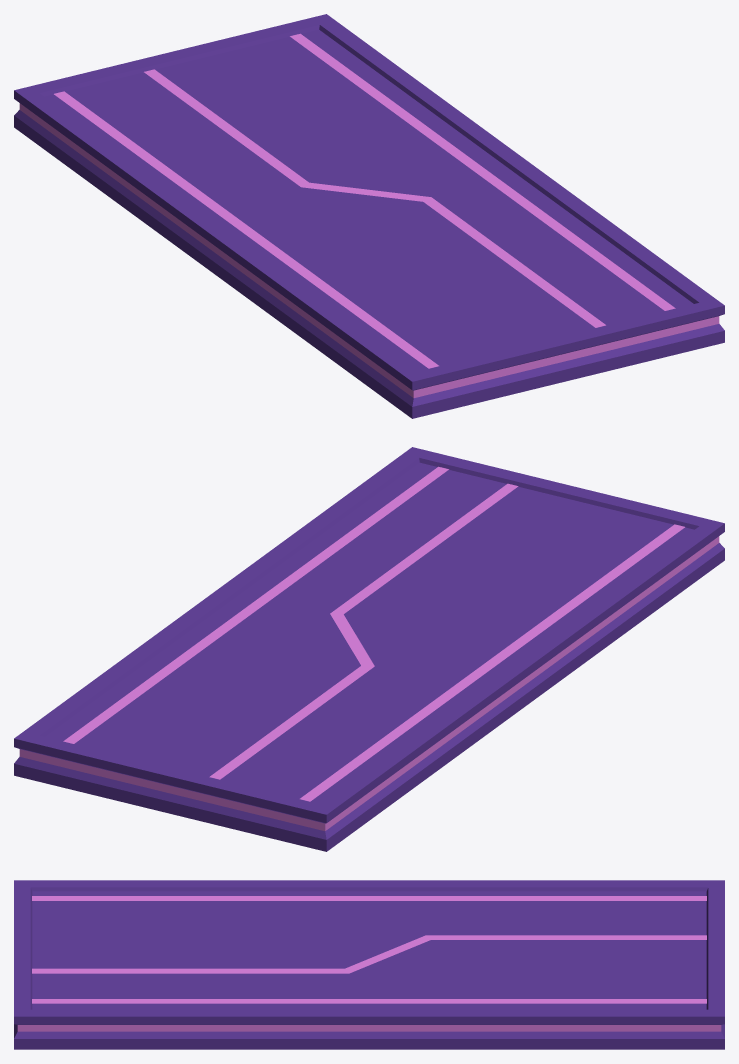
Rendered from Floor_platform_2.fbx.
3 views of the same model, one above another, from view 1: azimuth 30°, elevation 25°; view 2: azimuth 150°, elevation 25°; view 3: azimuth 270°, elevation 25° (orthographic). The views are drawn at different scales.
Parts seen in each view (by area): view 1: Floor_platform_2; view 2: Floor_platform_2; view 3: Floor_platform_2.
Part boxes in pixels (x1,y1,x2,y2): Floor_platform_2: [14, 14, 724, 418]; Floor_platform_2: [14, 447, 724, 851]; Floor_platform_2: [14, 880, 724, 1049].
Size of the model in its own units: 316 by 35.85 by 697.
